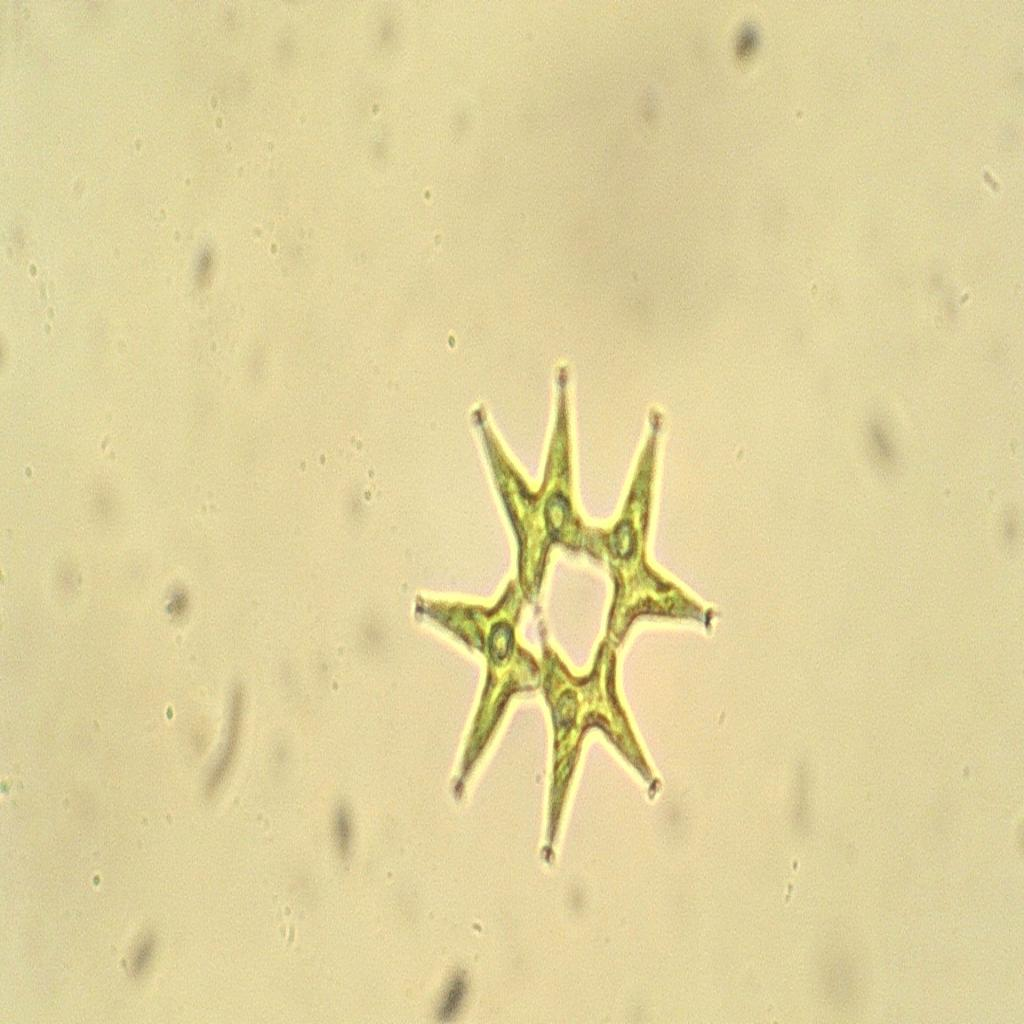Pediastrum_75FO: (398, 344, 720, 902)
